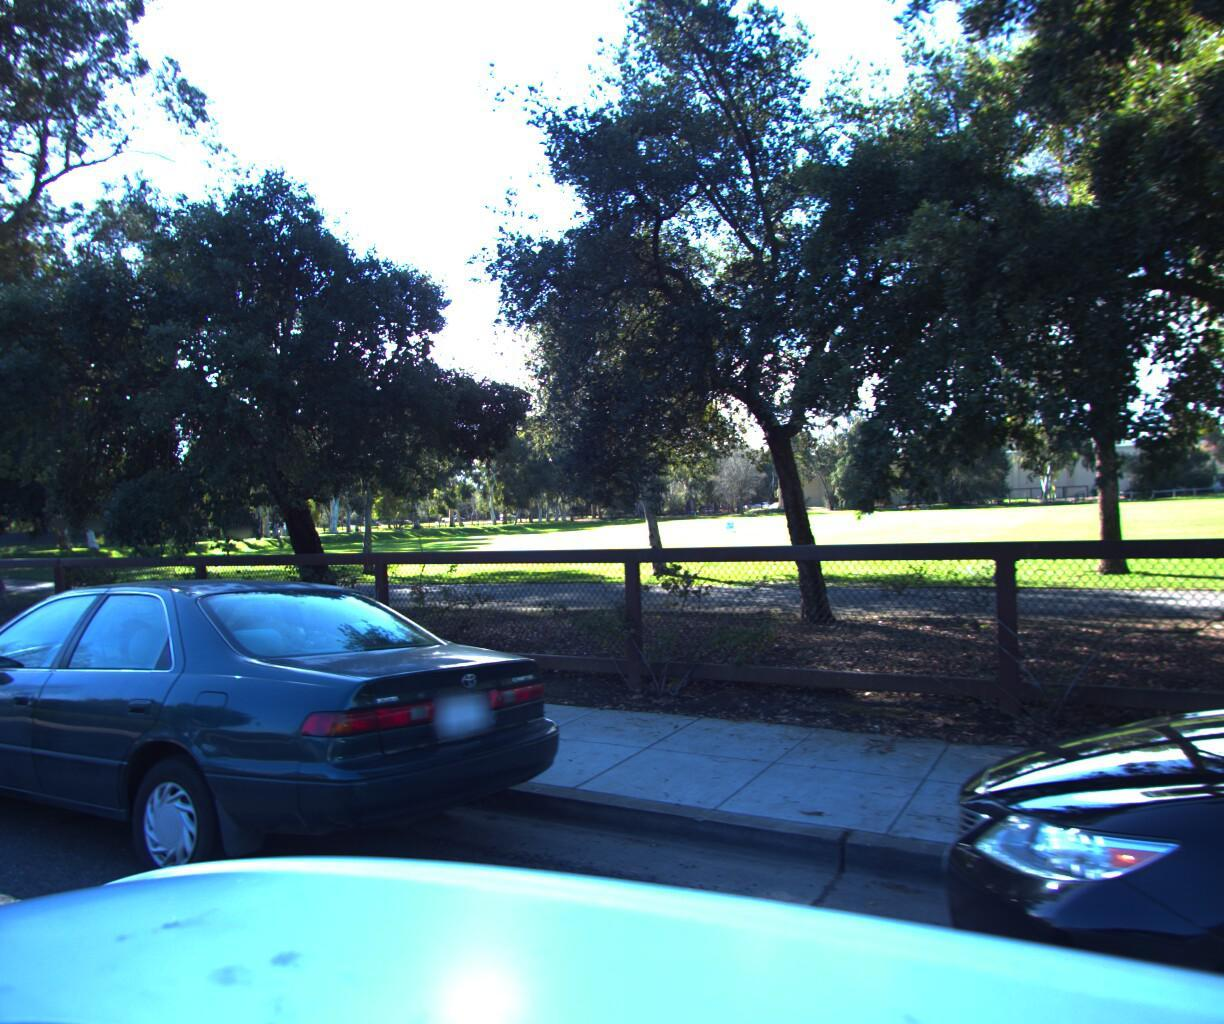car: (0, 561, 595, 1004)
